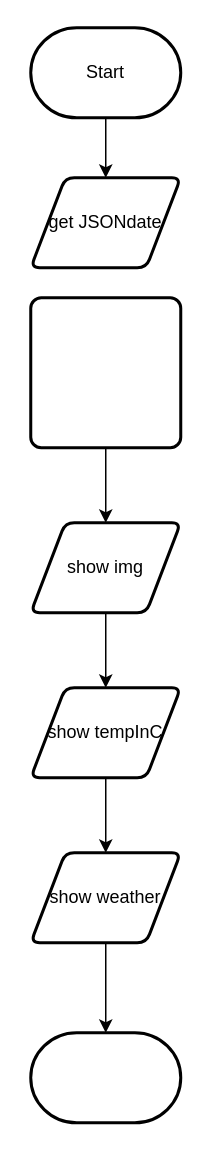
The diagram is 212 pixels wide and 1149 high, and some of its shapes have lost their labels. The box of each missing label's shape, as (x1, y1, x2, y2) in pixels:
stop: (28, 1030, 182, 1124)
tempInC = jsonData.main.temp - 273.15: (28, 296, 182, 448)
